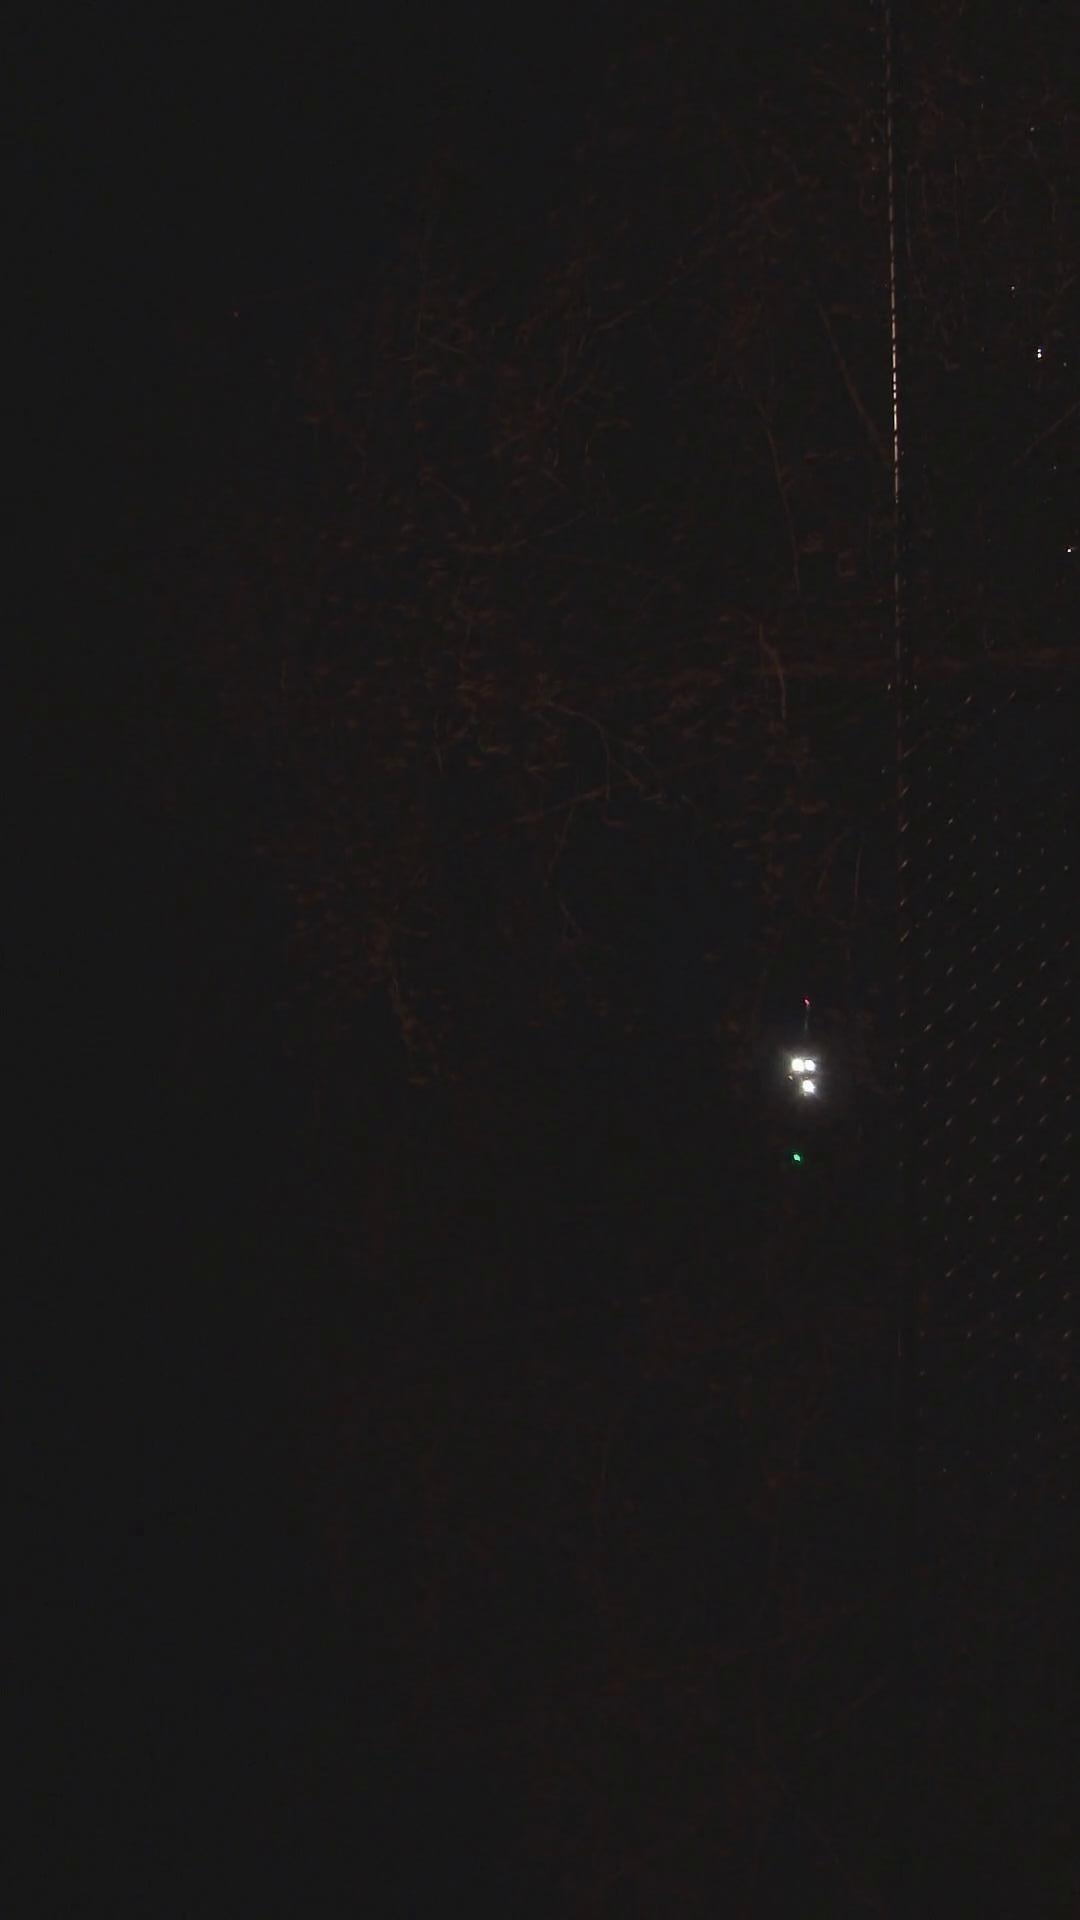Plane: (752, 971, 855, 1187)
